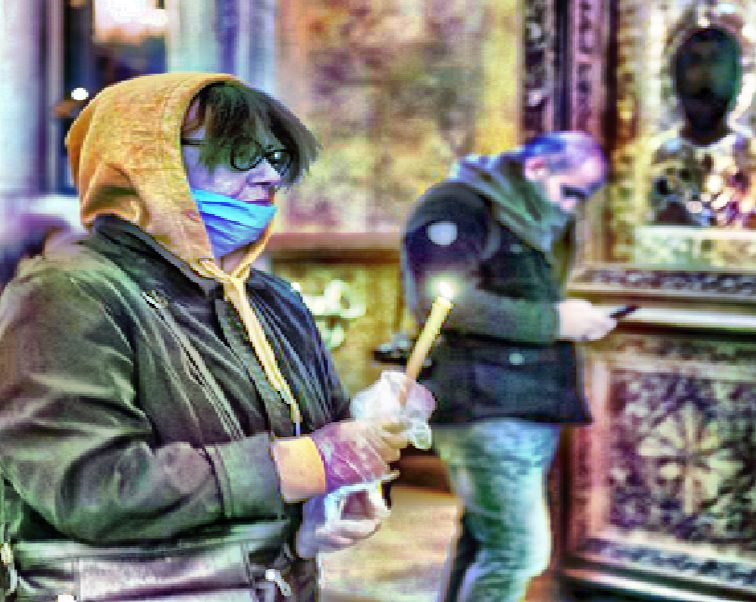mask_weared_incorrect: (72, 72, 297, 257)
